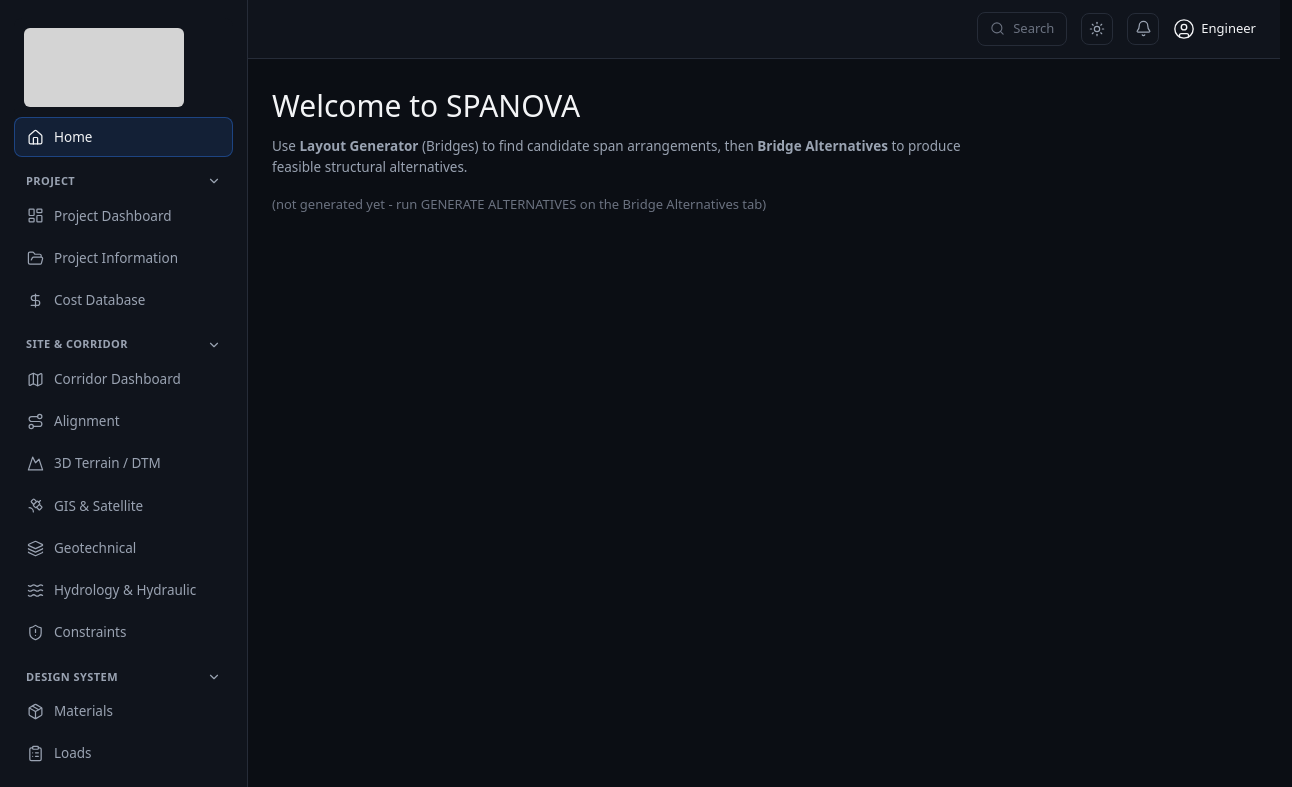
Test: App › navigates to Materials when its sidebar link is clicked
Click the link "Materials": (70, 711) [27,702,113,720]
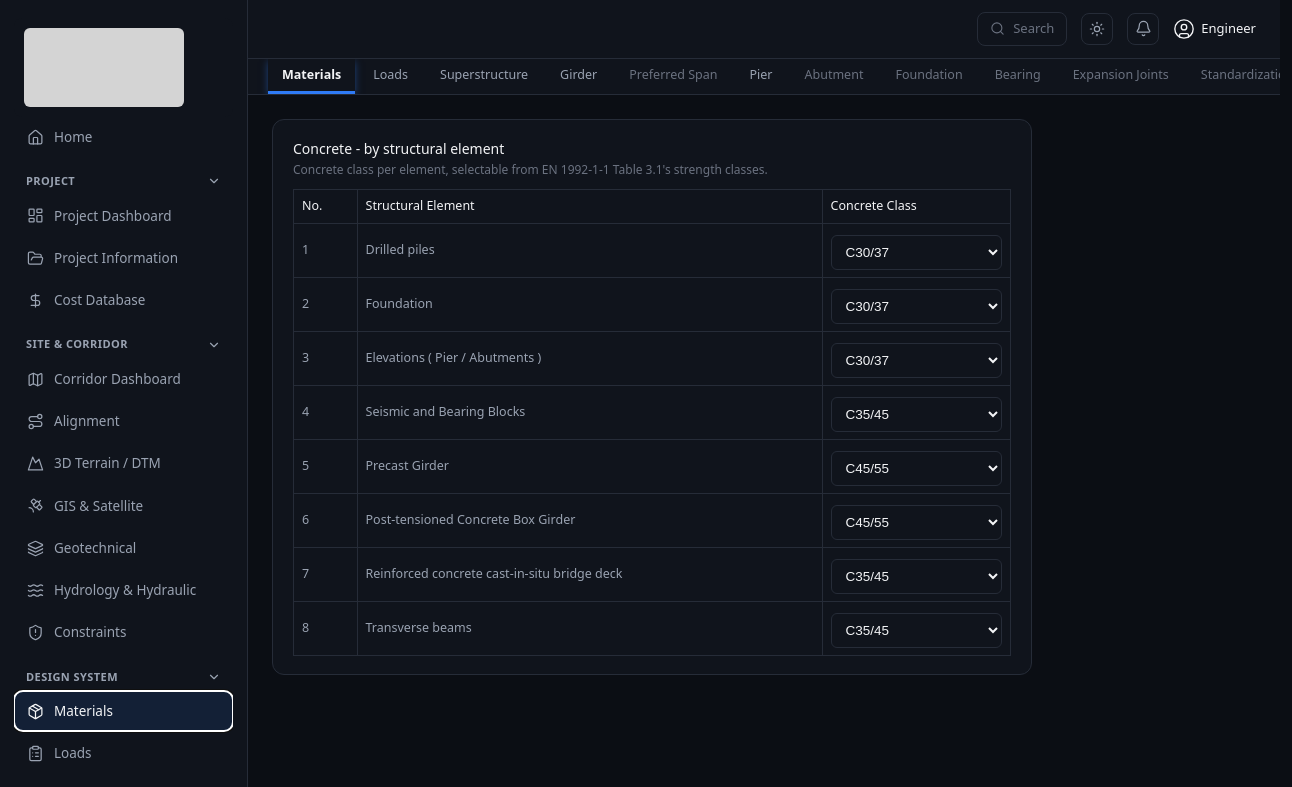
Check: the heading "Concrete - by structural element" is shown, box [293,139,504,158]
